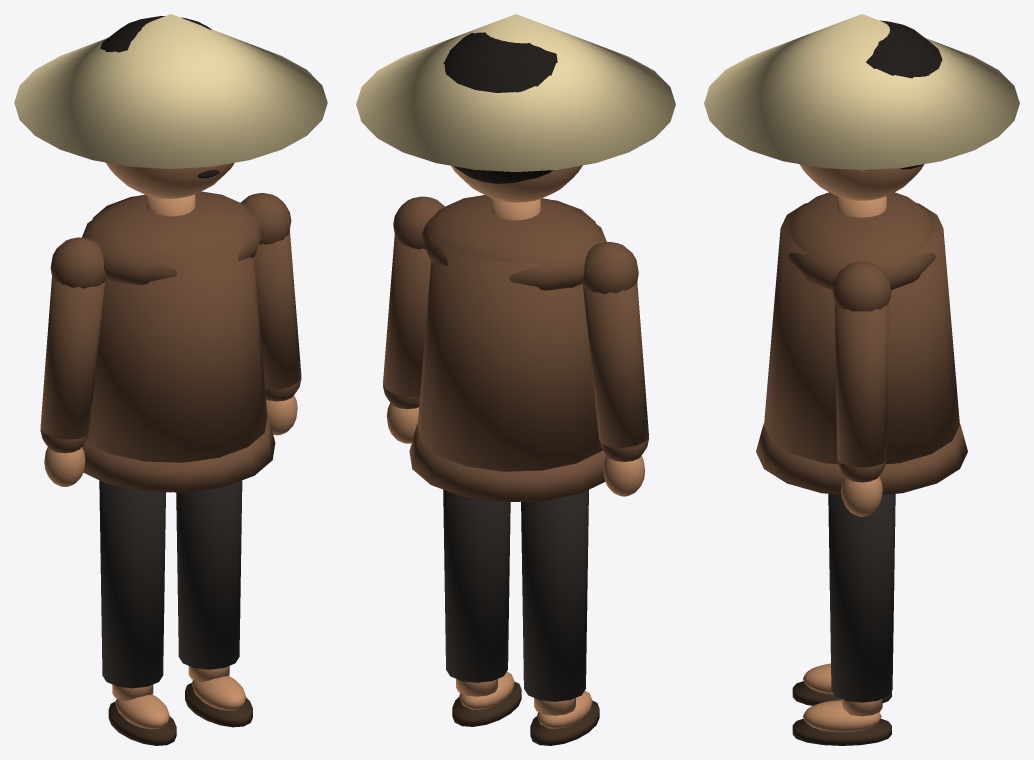
Rendered from villager_man_nonla.glb.
3 views of the same model, side by side, from view 1: azimuth 30°, elevation 25°; view 2: azimuth 150°, elevation 25°; view 3: azimuth 270°, elevation 25° (orthographic).
Parts seen in each view (by area): view 1: Body, Head, LegL, LegR, ArmL, ArmR; view 2: Body, Head, LegL, LegR, ArmL, ArmR; view 3: Body, Head, LegR, ArmR, LegL.
Part boxes in pixels (bbox=[...]): Body: bbox=[82, 191, 275, 492]; Head: bbox=[14, 14, 327, 198]; LegL: bbox=[99, 480, 176, 745]; LegR: bbox=[176, 480, 252, 727]; ArmL: bbox=[40, 237, 106, 486]; ArmR: bbox=[240, 193, 301, 435]; Body: bbox=[409, 195, 606, 502]; Head: bbox=[356, 14, 675, 202]; LegL: bbox=[521, 490, 599, 745]; LegR: bbox=[443, 489, 521, 726]; ArmL: bbox=[581, 242, 648, 496]; ArmR: bbox=[383, 196, 444, 443]; Body: bbox=[756, 192, 967, 494]; Head: bbox=[704, 14, 1019, 200]; LegR: bbox=[792, 494, 895, 745]; ArmR: bbox=[832, 261, 891, 516]; LegL: bbox=[792, 663, 891, 705].
Size of the model in its own units: 0.64 by 1.57 by 0.64.
